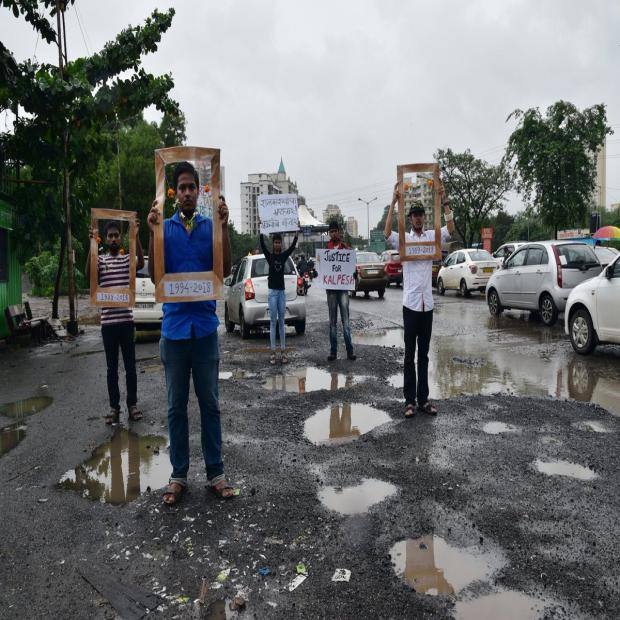lubang: (389, 535, 569, 619), (60, 429, 169, 504), (304, 403, 391, 444), (0, 396, 52, 456), (318, 478, 397, 515), (262, 367, 374, 393), (534, 459, 597, 480), (572, 420, 612, 433), (483, 422, 520, 434), (219, 370, 257, 380)
